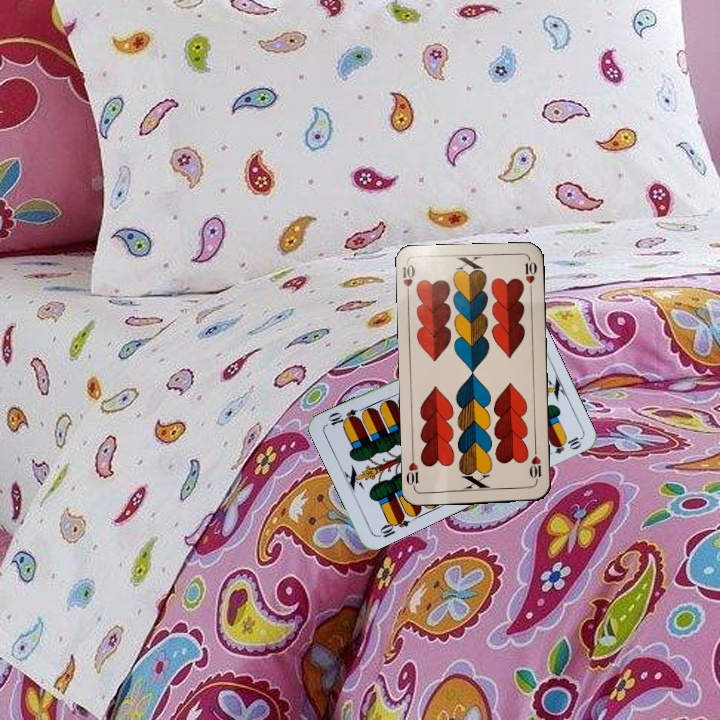E10: (374, 511, 412, 540)
H10: (525, 445, 545, 486), (399, 260, 417, 301)
